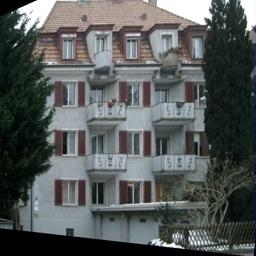building: (25, 0, 256, 256)
